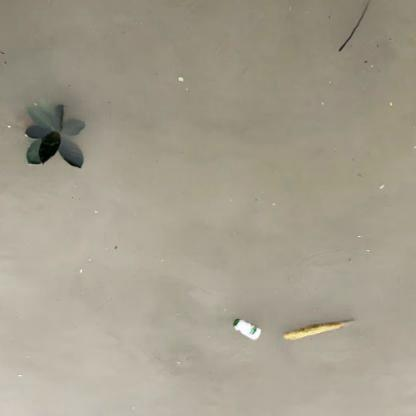Metal: (231, 314, 264, 344)
